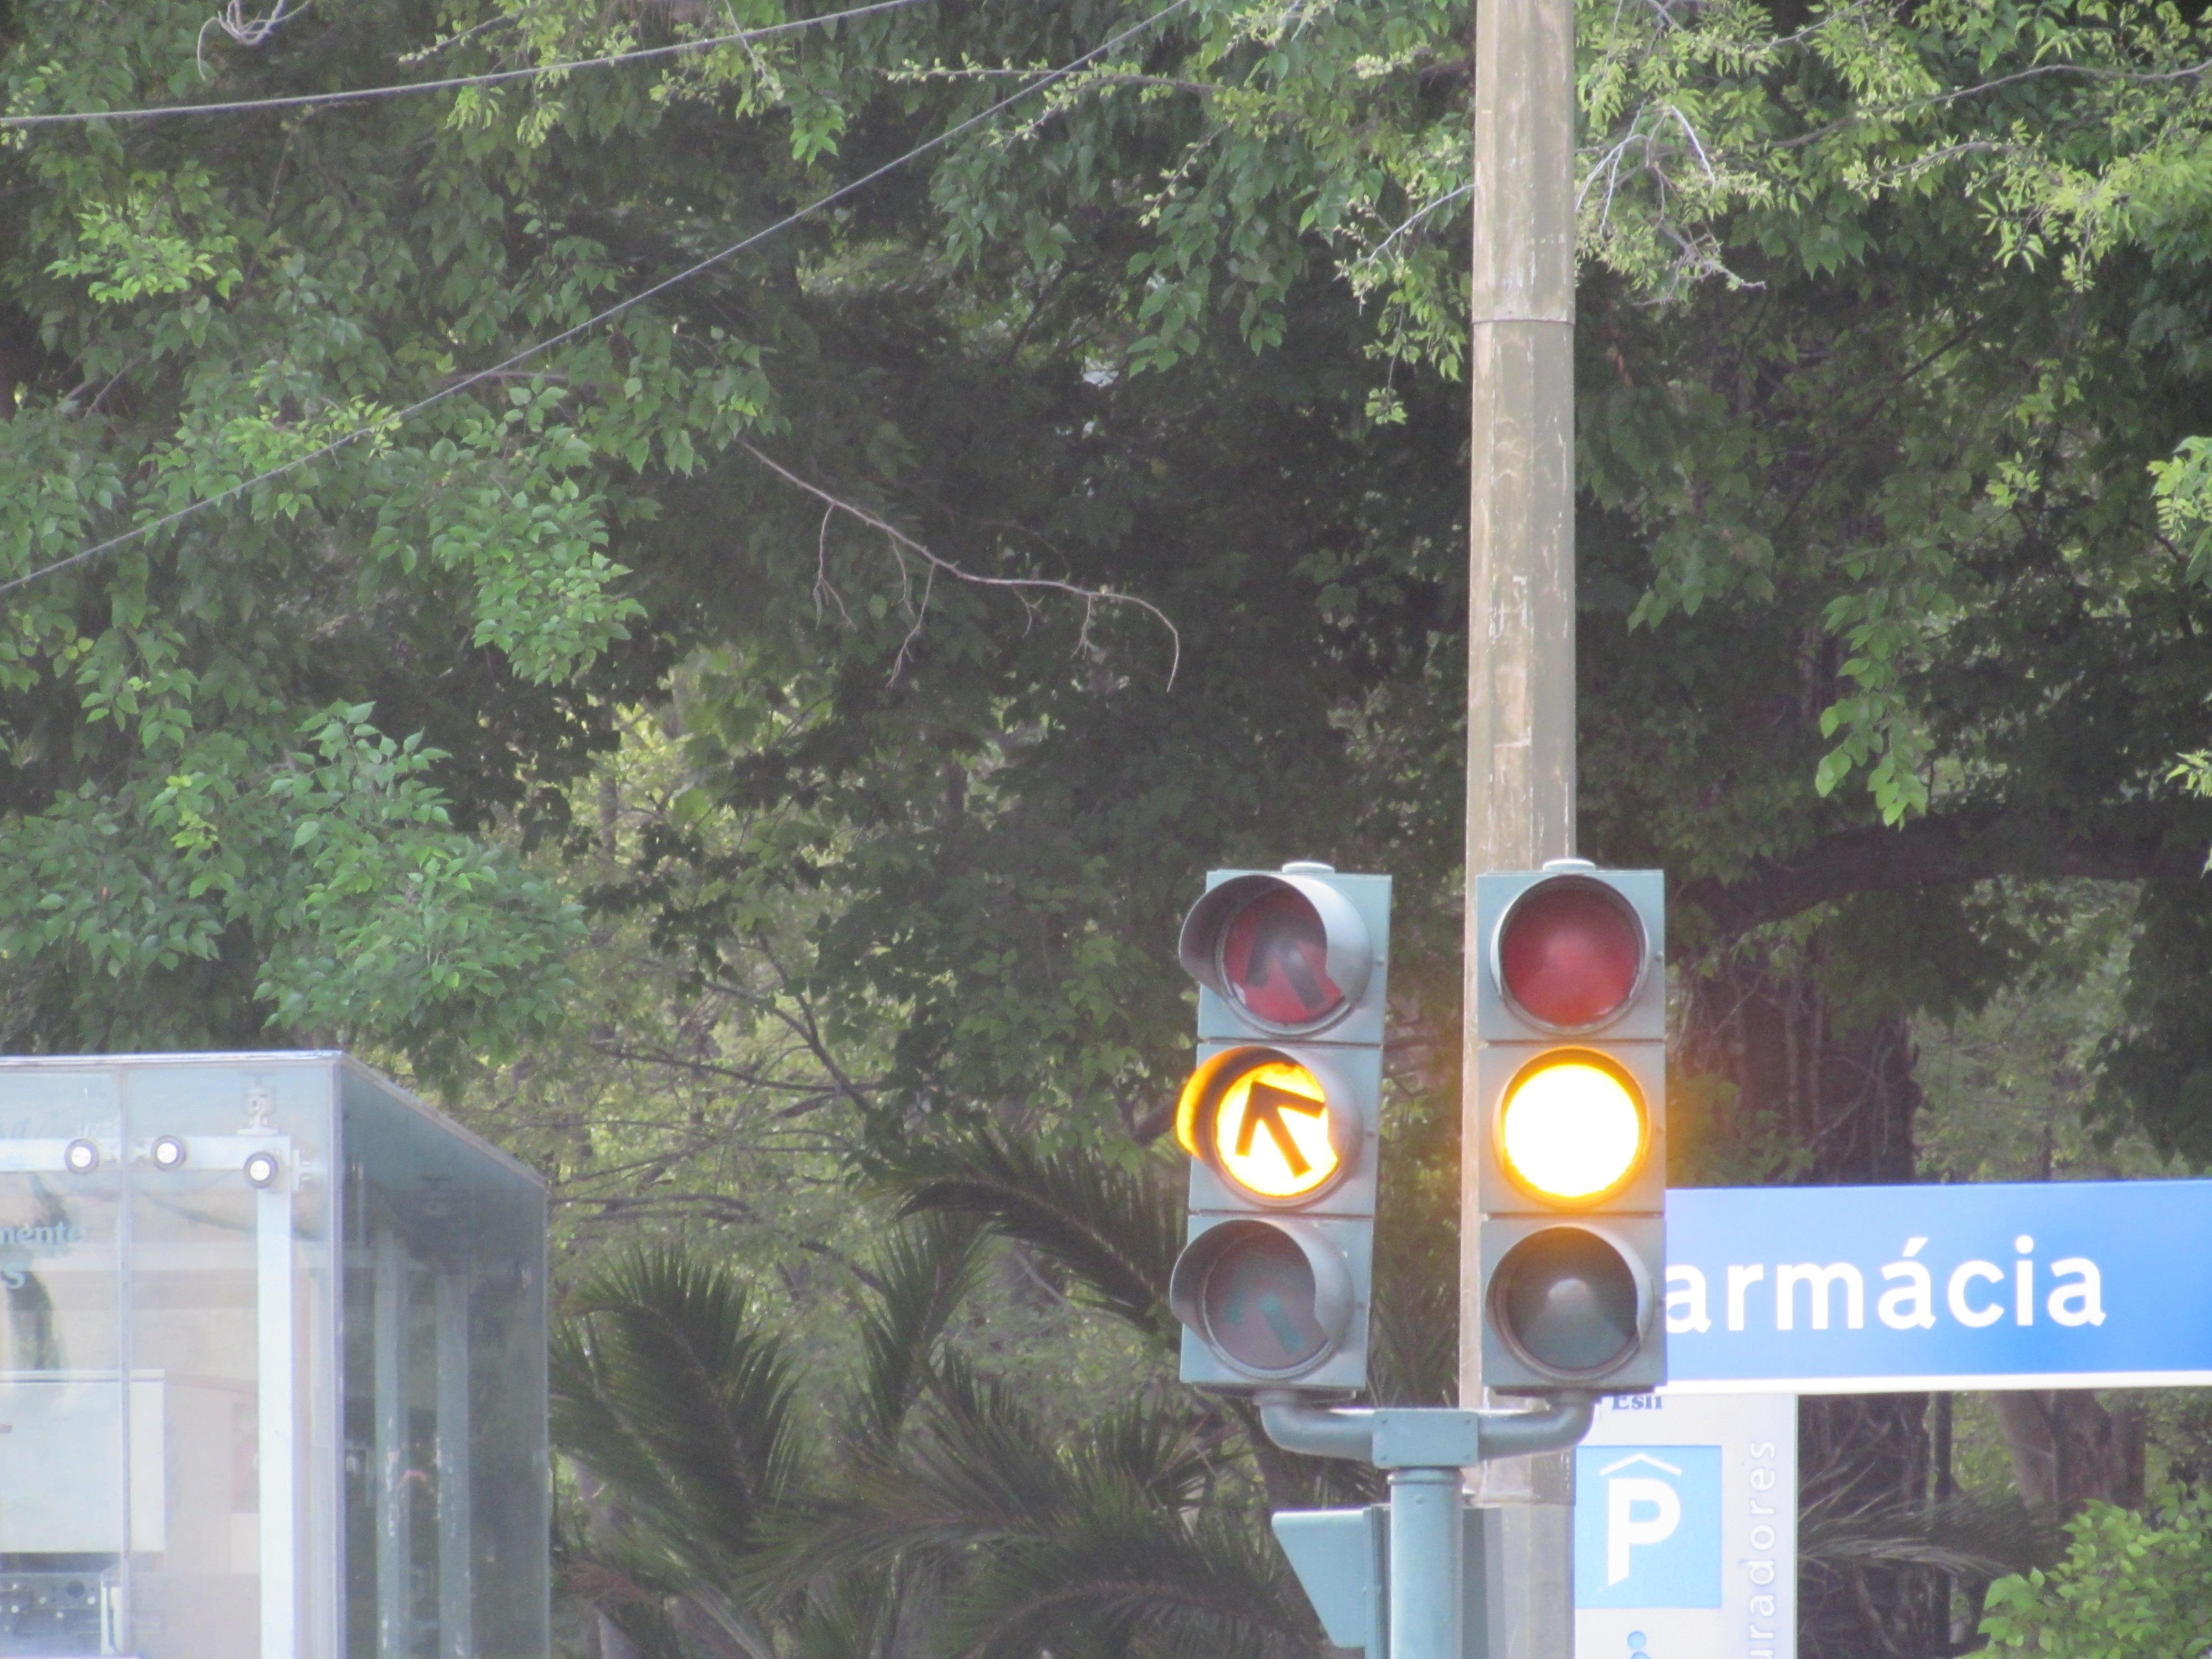yellow_light: (1170, 870, 1391, 1391), (1477, 870, 1668, 1386)
